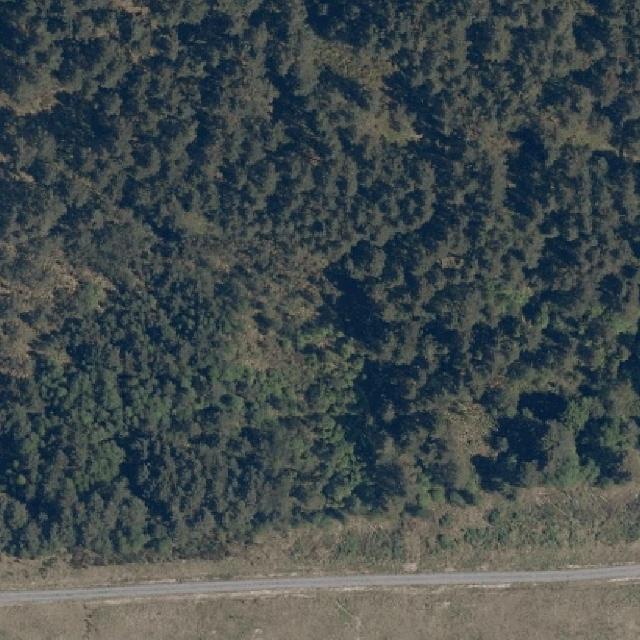vegetation: (0, 0, 640, 566)
